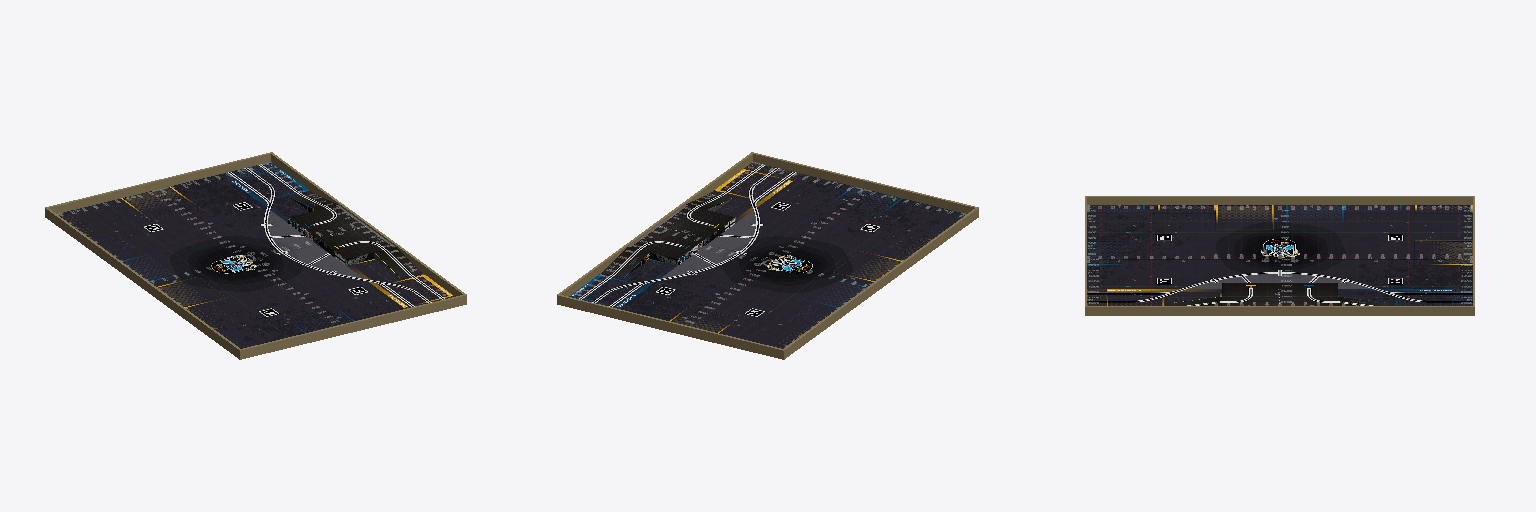
The picture shows the model from 3 angles: view 1: azimuth 30°, elevation 25°; view 2: azimuth 150°, elevation 25°; view 3: azimuth 270°, elevation 25°; orthographic projection.
Visible parts, largest first — view 1: eurobot_field; view 2: eurobot_field; view 3: eurobot_field.
Boxes of the visible parts, <box> form: eurobot_field: <box>45,152,466,359</box>; eurobot_field: <box>557,152,978,359</box>; eurobot_field: <box>1085,196,1474,315</box>.
Bounding box in the file's own units: 20.44 × 0.8 × 30.44.
Materials: 1 (1 with a texture image).